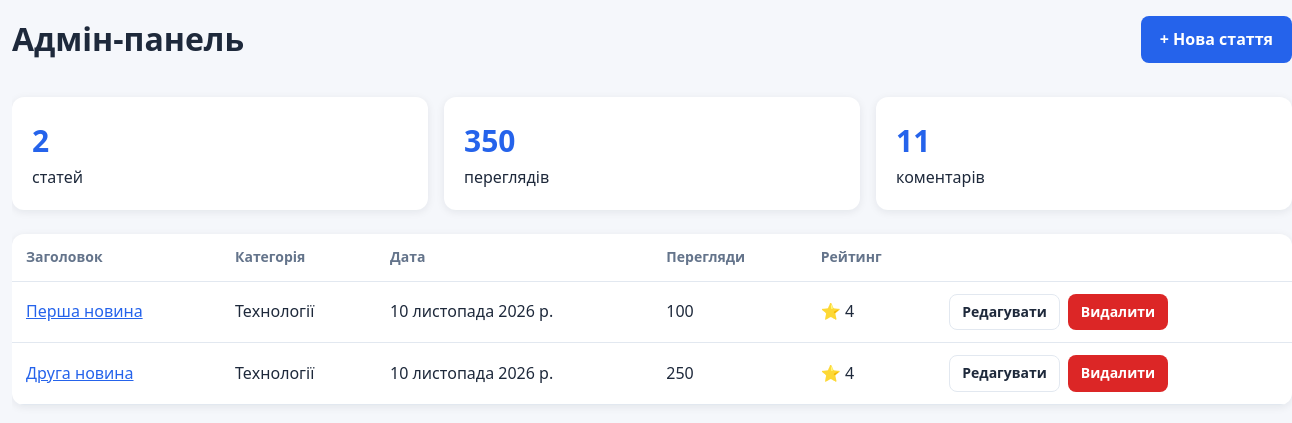
Test case: AdminPage › видаляє статтю після підтвердження
Check: the link "Перша новина" is shown, box [26,300,143,322]
Click the button "Видалити" in the row of "Перша новина": (1118, 312) [1068,294,1168,330]
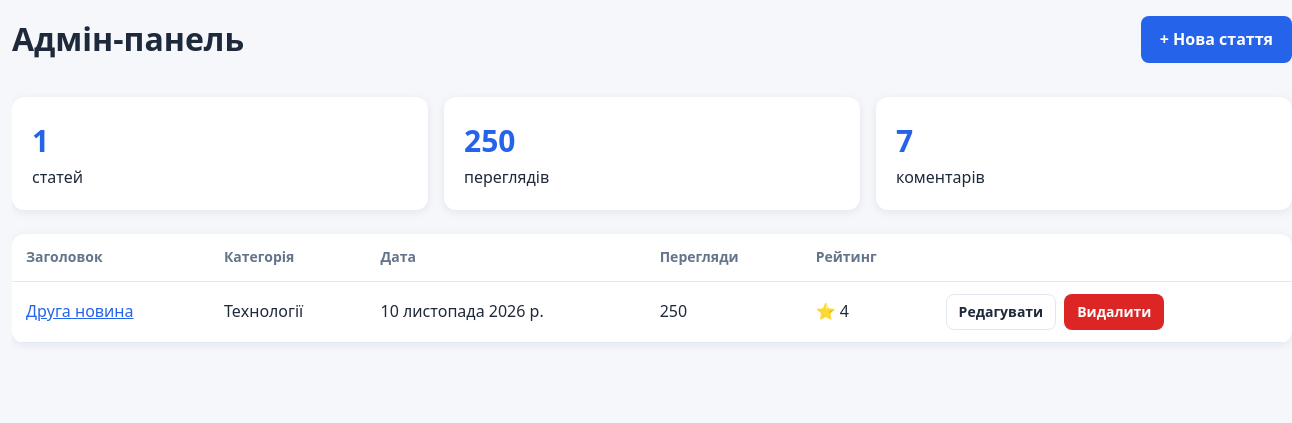
Check: the link "Перша новина" is gone
